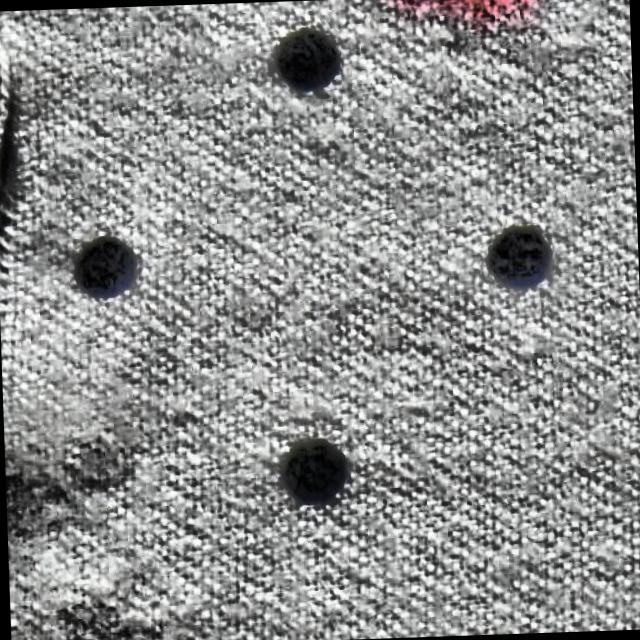gray stitch: (0, 24, 49, 287)
